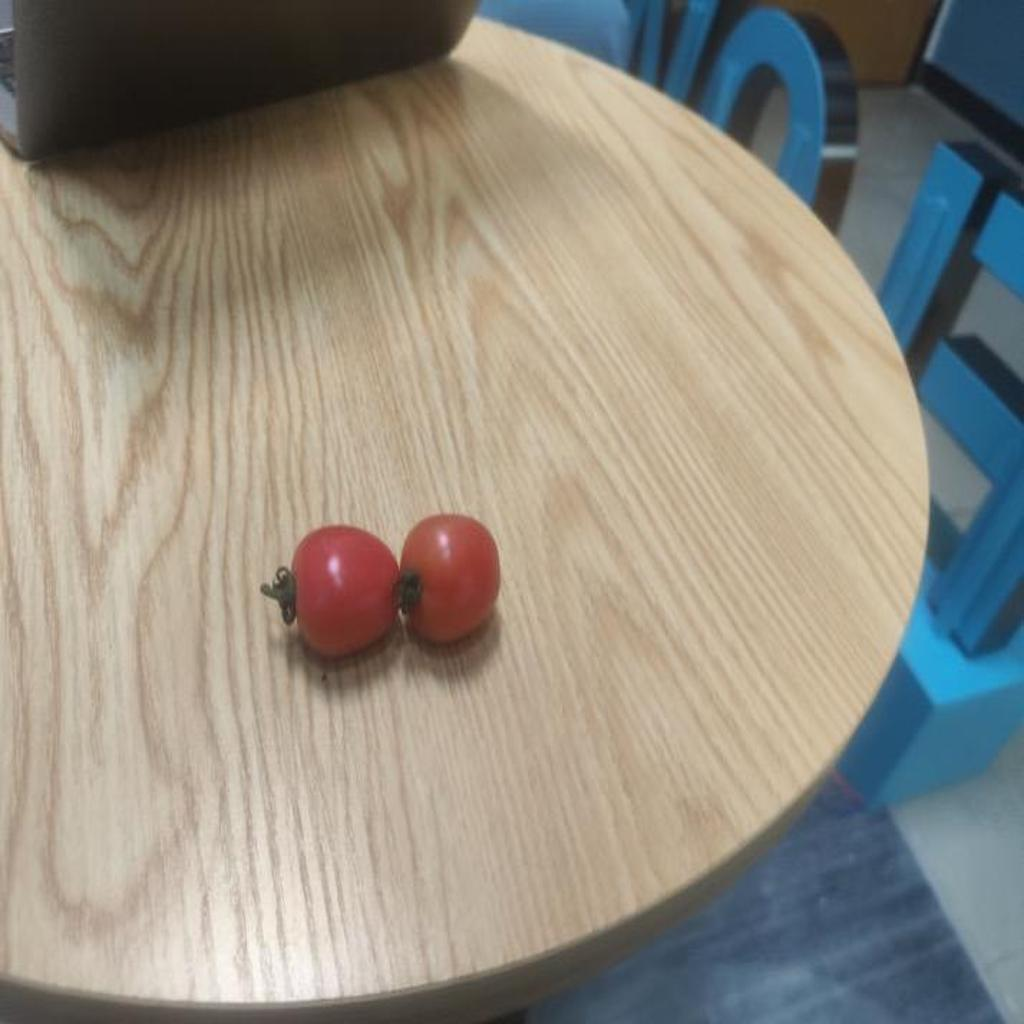tomato: (390, 516, 507, 645), (279, 529, 399, 650)
